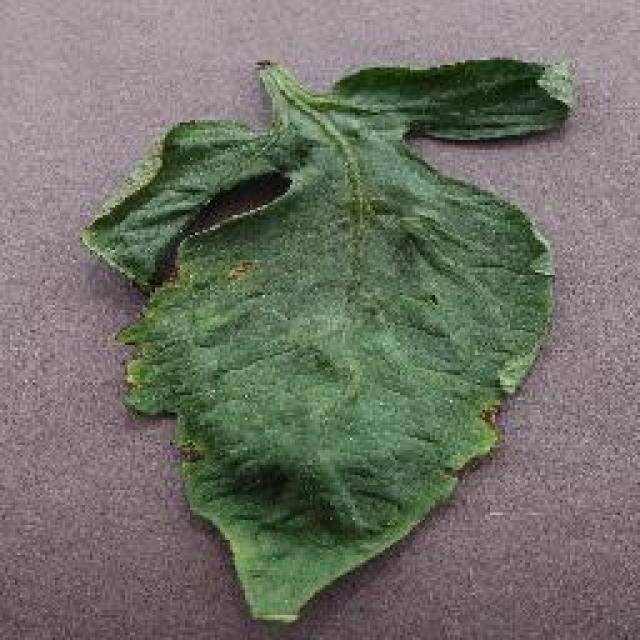Tomato___Target_Spot: (82, 58, 570, 618)
